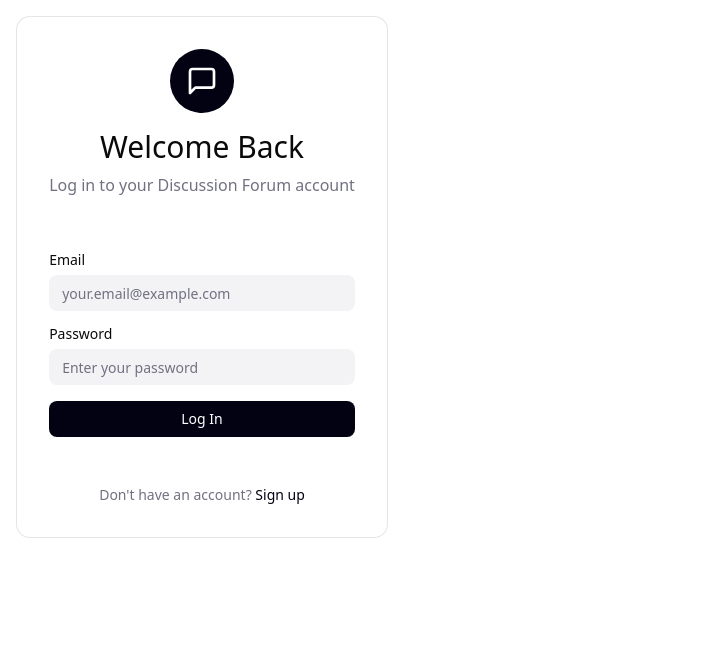
Test case: Login E2E Tests › should display alert when email or password is incorrect
The image size is (708, 659).
Type "wrong@example.com" into the field with test id "email-input". click: (202,293)
box: [49, 275, 355, 311]
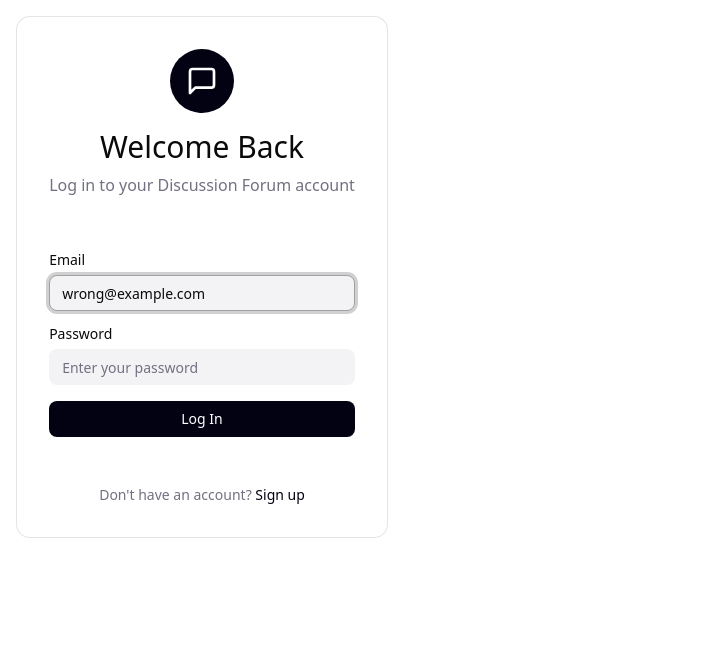
Type "wrongpassword" into the password field with test id "password-input". click: (202,367)
box: [49, 349, 355, 385]
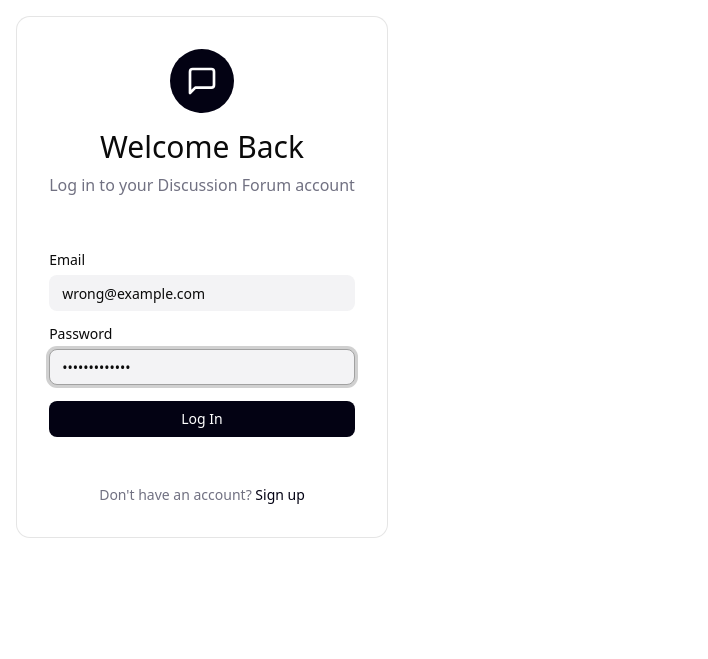
Click the submit button. click: (202,419)
box: [49, 401, 355, 437]
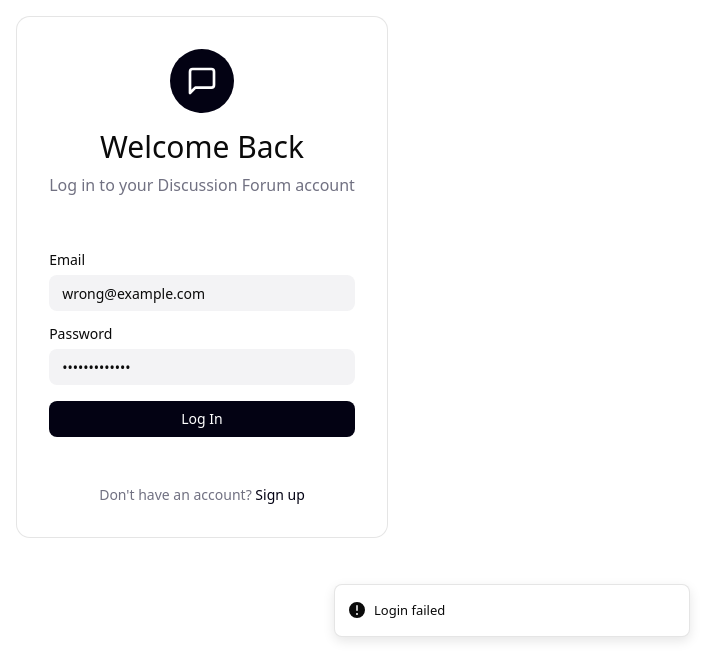
Result: the text with class "toaster" reads "Login failed" at [374, 601, 445, 619]
